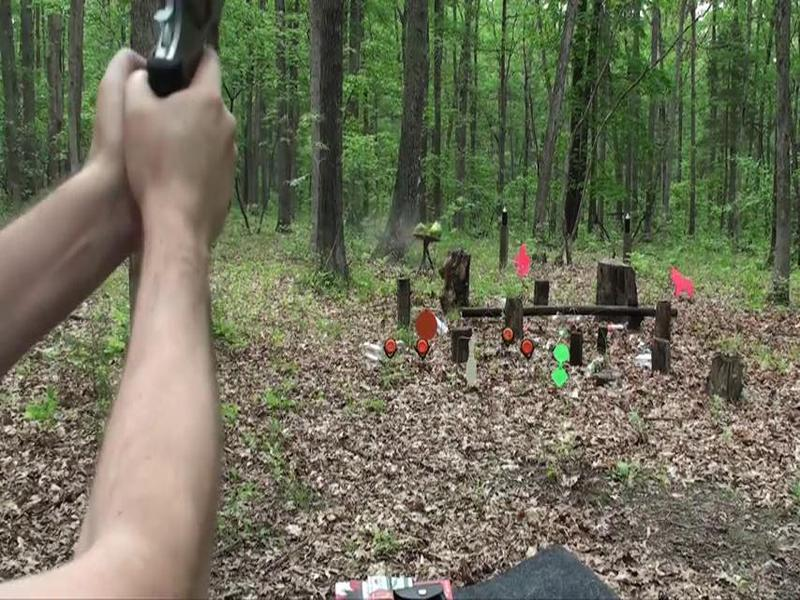Revolver: (138, 1, 250, 148)
